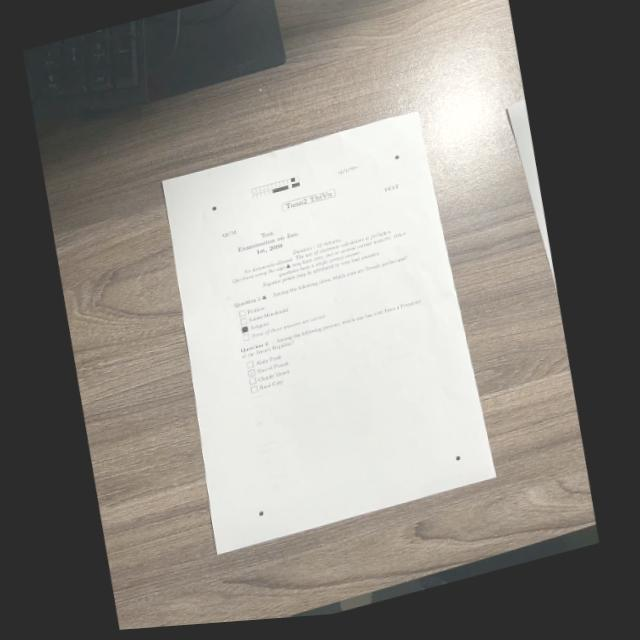Markers: (257, 510, 264, 518), (454, 454, 460, 462), (393, 153, 400, 159), (210, 205, 216, 211)
